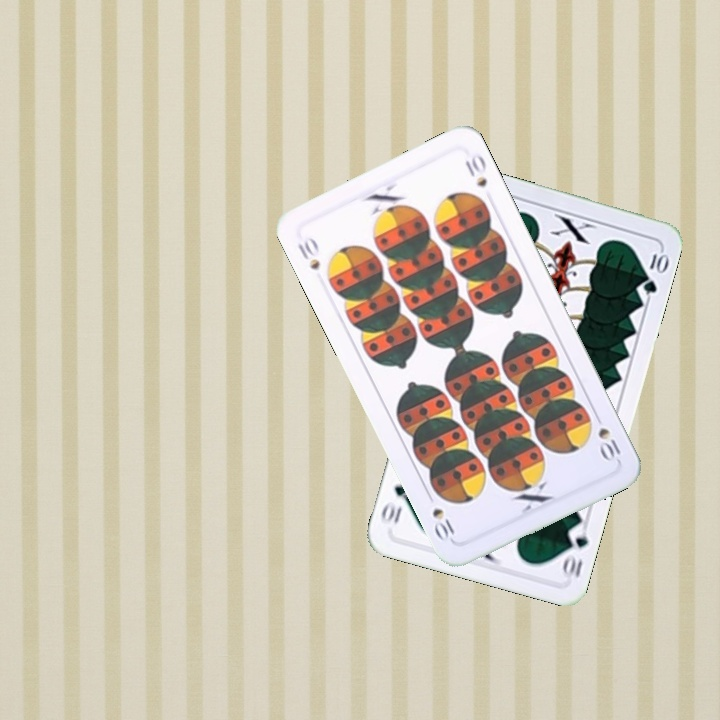G10: (558, 521, 591, 581)
S10: (590, 408, 624, 464), (293, 233, 323, 273)
